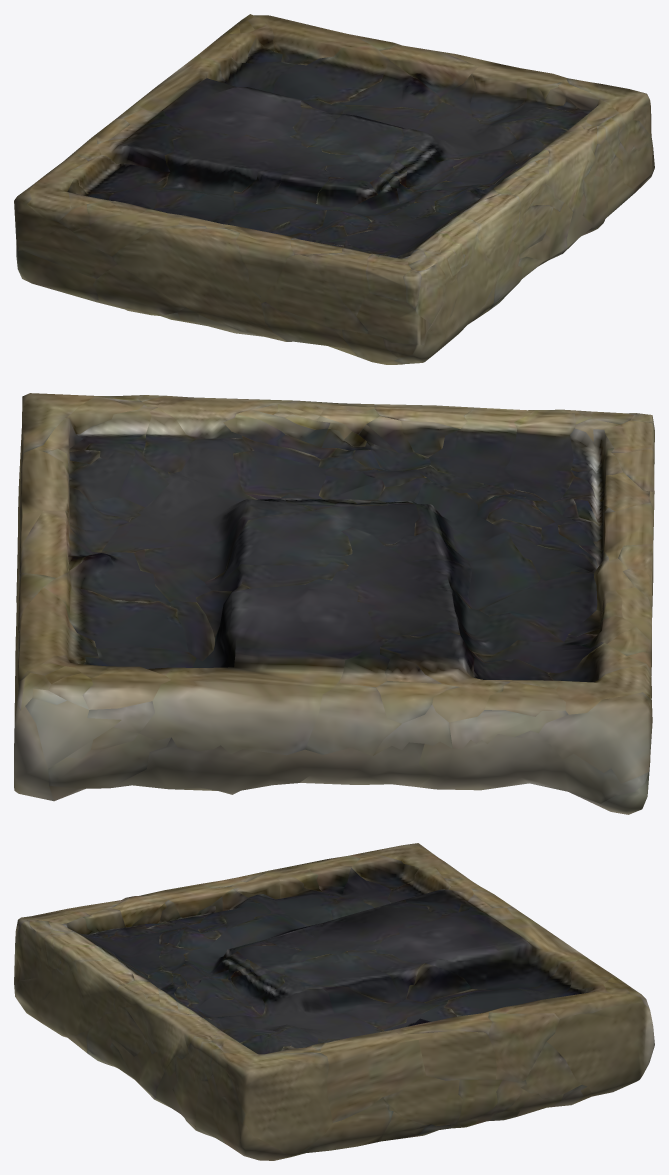
File: hall.glb
3 renders of one model, top to bottom at view 1: azimuth 30°, elevation 25°; view 2: azimuth 150°, elevation 25°; view 3: azimuth 270°, elevation 25°, orthographic. The views are drawn at different scales.
Bounding box in the file's own units: 0.6264 × 0.1398 × 0.6367.
Materials: 1 (1 with a texture image).
